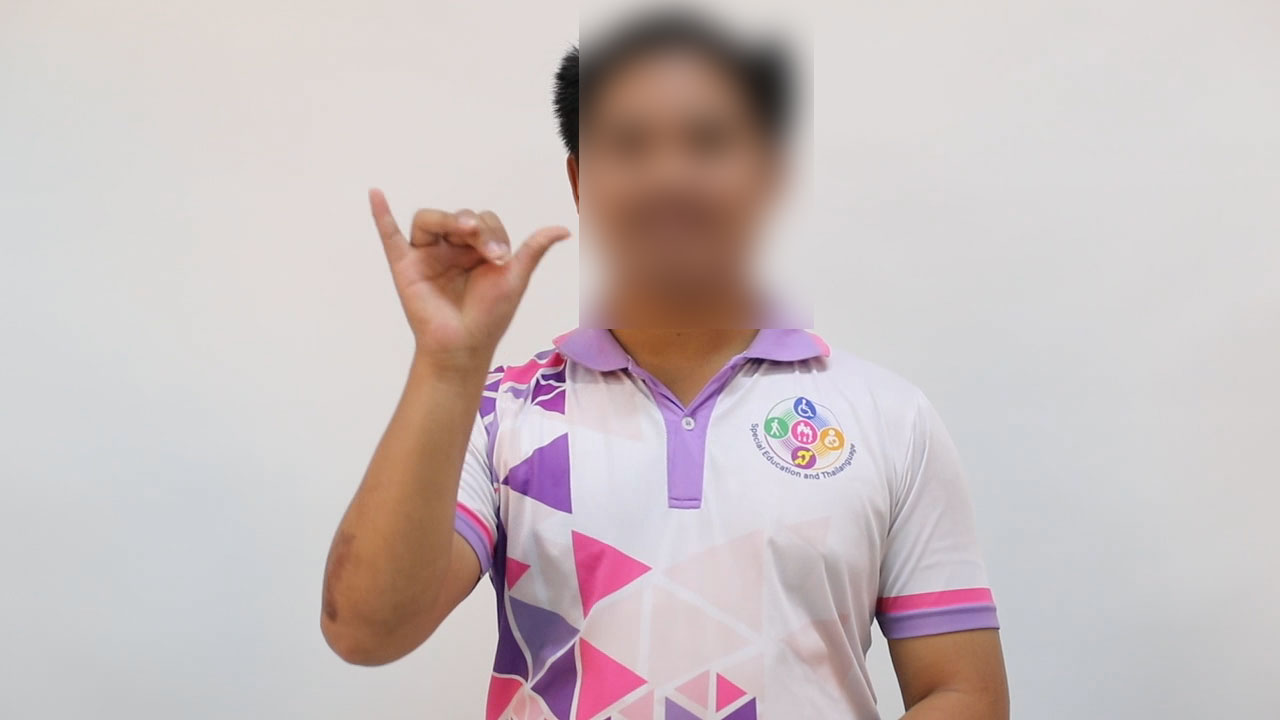yor: (349, 182, 578, 371)
